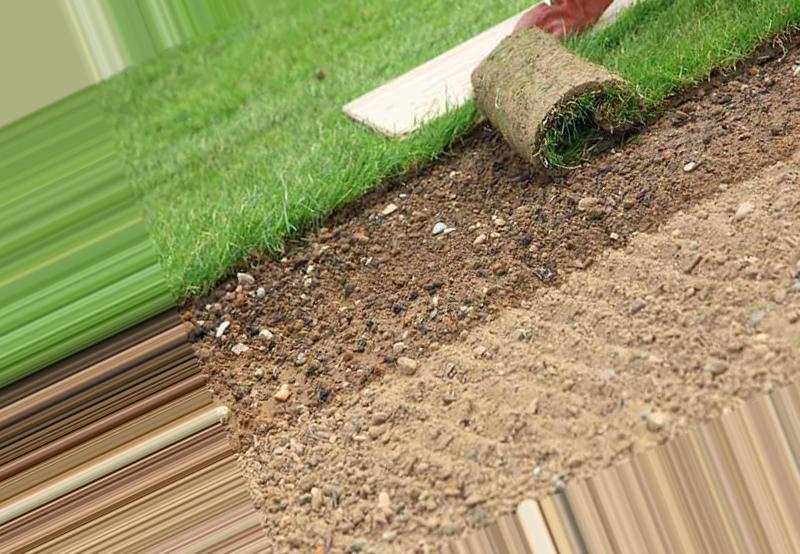patch: (215, 270, 650, 469), (452, 157, 800, 318), (277, 456, 415, 544), (676, 93, 797, 143), (675, 321, 757, 392)
